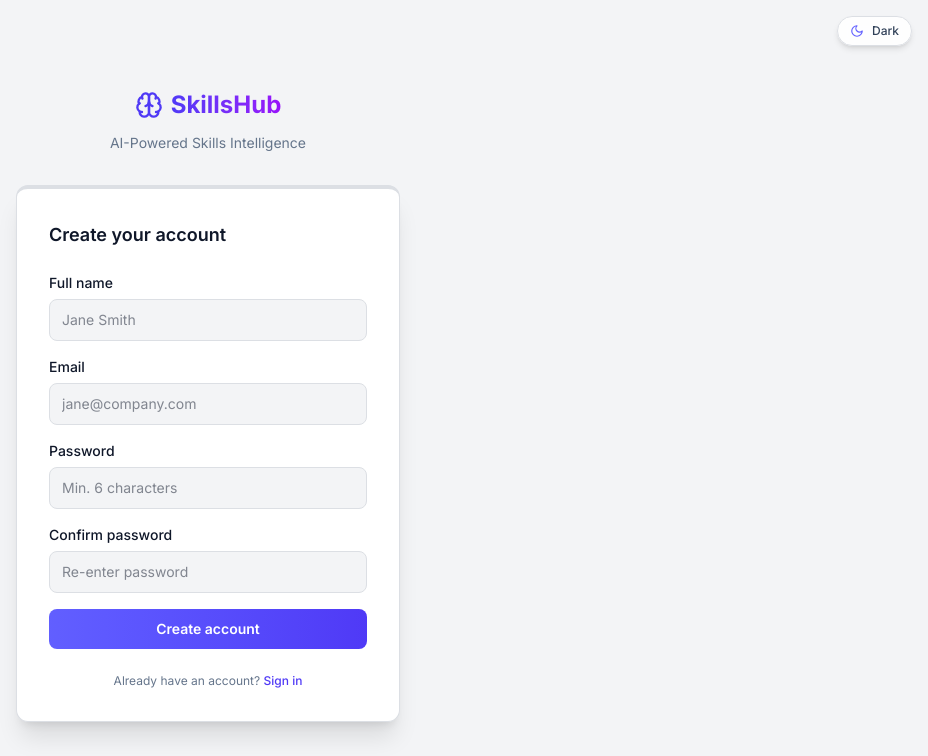
RegisterPage › shows loading text while submitting
Type "Test" into the field with placeholder "Jane Smith" at (208,320), box [49,298,367,340]
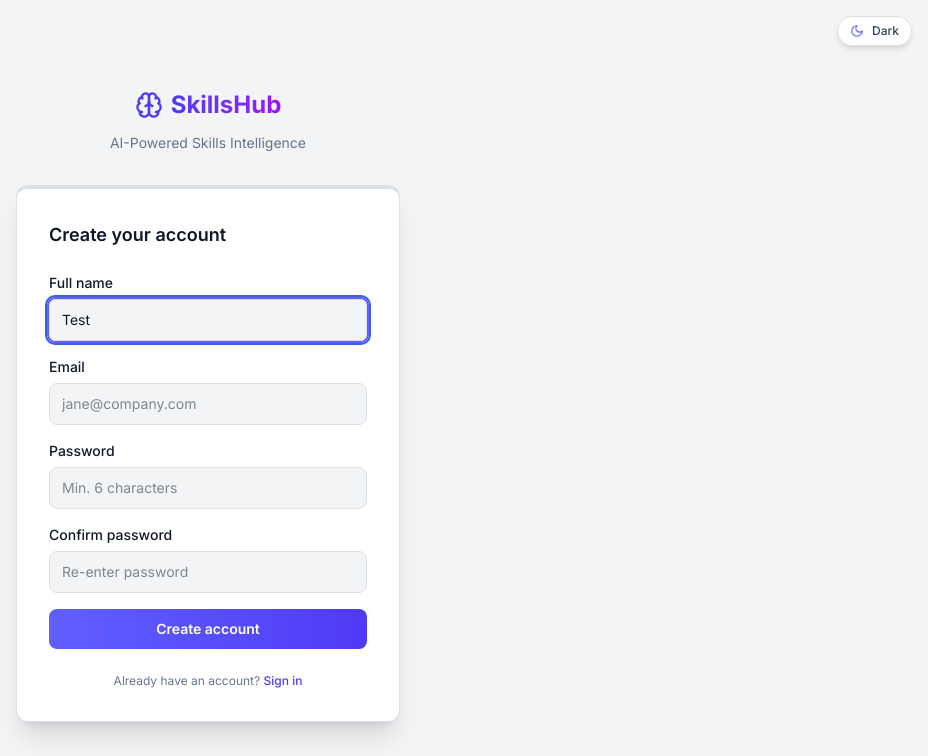
Type "t@t.com" into the field with placeholder "jane@company.com" at (208,404), box [49,382,367,424]
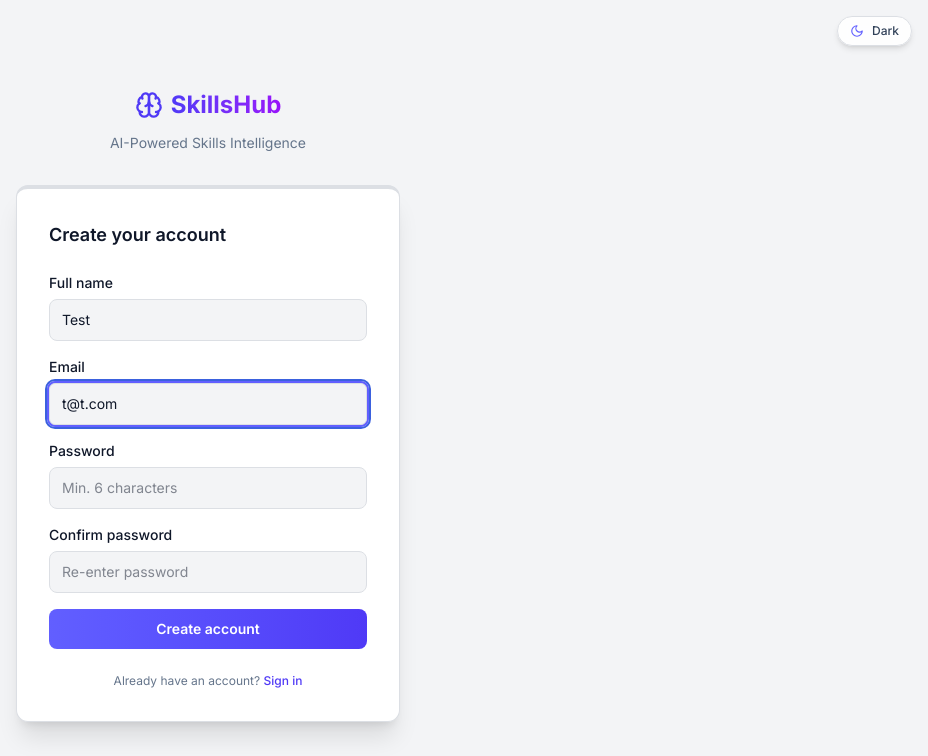
Type "pass123" into the password field with placeholder "Min. 6 characters" at (208,488), box [49,466,367,508]
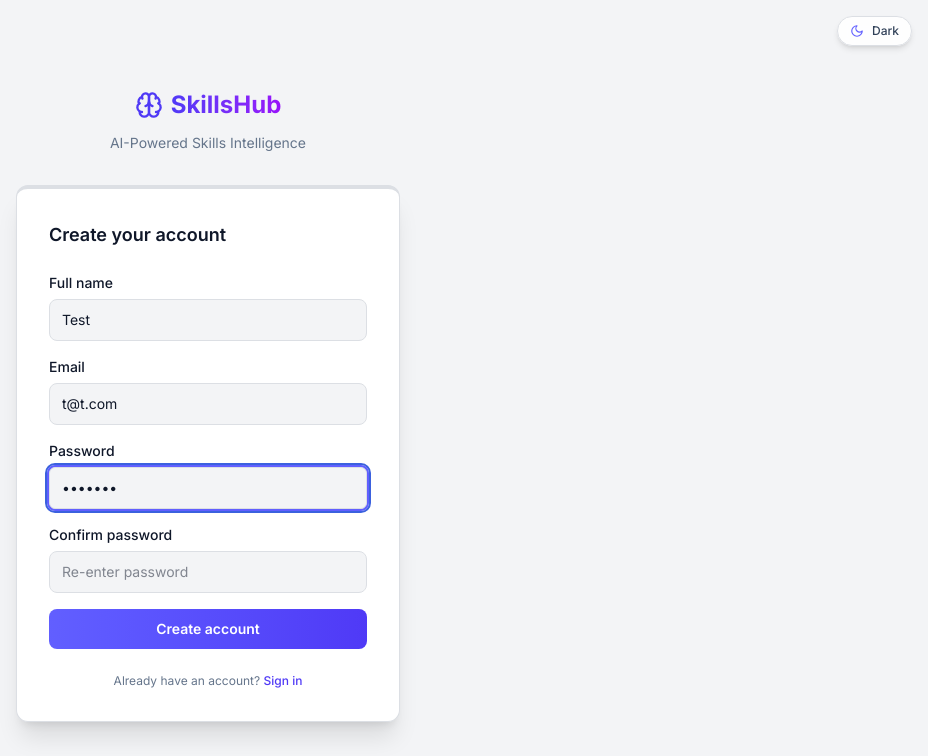
Type "pass123" into the password field with placeholder "Re-enter password" at (208,572), box [49,550,367,592]
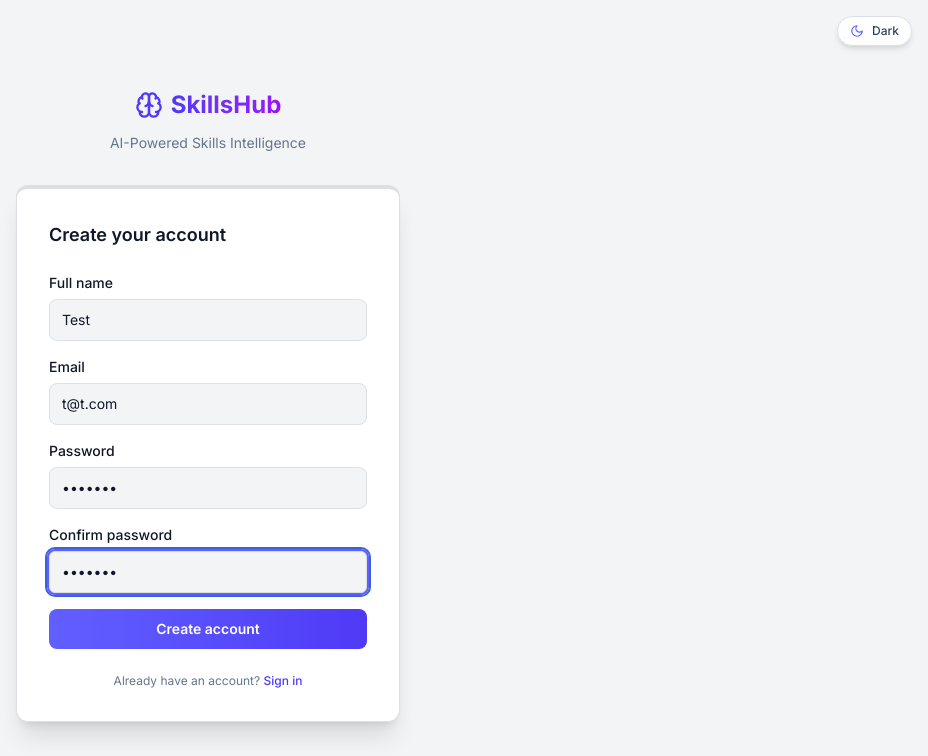
Submit the form "Full name Email Password Confirm password Create account", box [49,272,367,648]
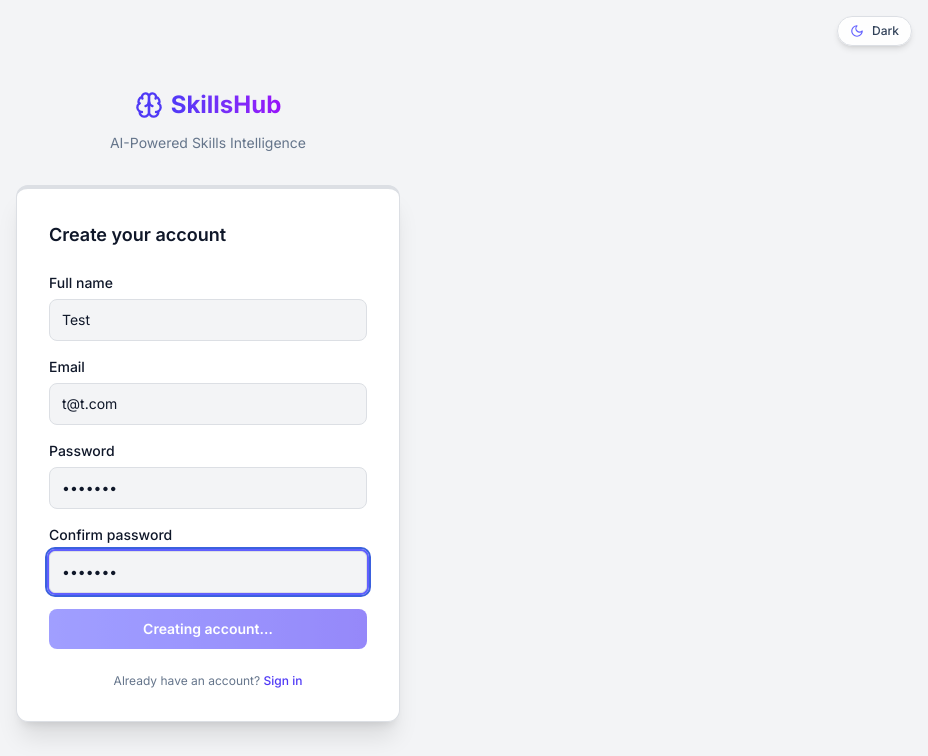
Now the button "Creating account…" is shown, box [49,608,367,648]
